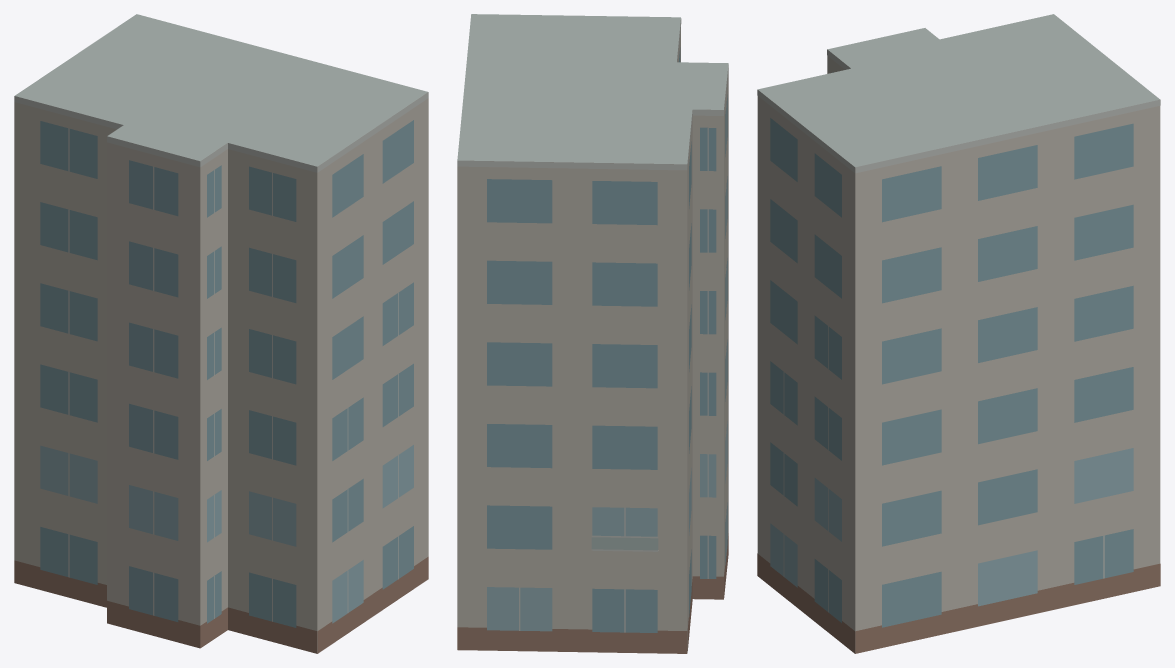
File: survey-upis-32868628.glb
3 renders of one model, left to right at view 1: azimuth 30°, elevation 25°; view 2: azimuth 150°, elevation 25°; view 3: azimuth 270°, elevation 25°, orthographic.
Visible parts, largest first — view 1: survey-upis-32868628.tmp; view 2: survey-upis-32868628.tmp; view 3: survey-upis-32868628.tmp.
Boxes of the visible parts, bbox=[...] form: survey-upis-32868628.tmp: bbox=[14, 14, 428, 653]; survey-upis-32868628.tmp: bbox=[457, 14, 728, 653]; survey-upis-32868628.tmp: bbox=[757, 14, 1160, 653].
Bounding box in the file's own units: 13.19 × 19.5 × 14.65.
